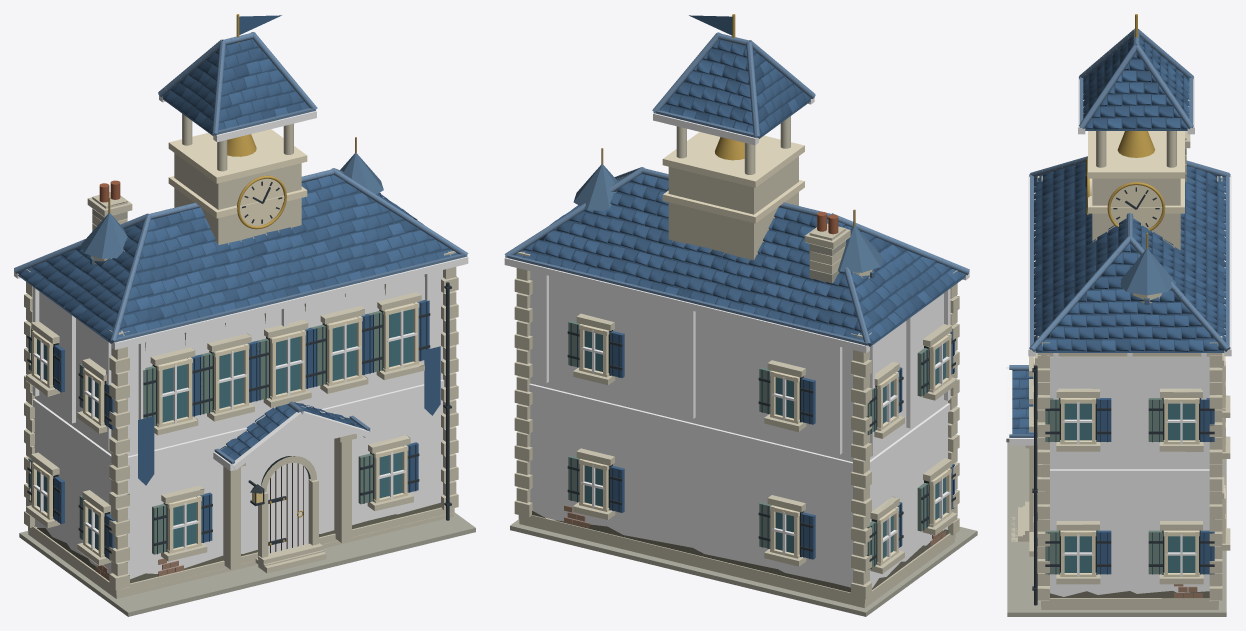
File: guild.glb
The picture shows the model from 3 angles, left to right: view 1: azimuth 30°, elevation 25°; view 2: azimuth 150°, elevation 25°; view 3: azimuth 270°, elevation 25°; orthographic projection. The views are drawn at different scales.
Parts seen in each view (by area): view 1: SourceMesh_00005, SourceMesh_00108, SourceMesh_00000, SourceMesh_00206, SourceMesh_00103, SourceMesh_00085, SourceMesh_00088, SourceMesh_00267, SourceMesh_00104, SourceMesh_00006, SourceMesh_00084, SourceMesh_00259 (+29 smaller); view 2: SourceMesh_00005, SourceMesh_00108, SourceMesh_00085, SourceMesh_00206, SourceMesh_00100, SourceMesh_00000, SourceMesh_00088, SourceMesh_00084, SourceMesh_00006, SourceMesh_00101, SourceMesh_00001, SourceMesh_00102 (+12 smaller); view 3: SourceMesh_00108, SourceMesh_00005, SourceMesh_00206, SourceMesh_00000, SourceMesh_00088, SourceMesh_00085, SourceMesh_00103, SourceMesh_00107, SourceMesh_00100, Blender civic lantern roof.001, SourceMesh_00084, SourceMesh_00006 (+41 smaller).
Boxes of the visible parts, <box> form: SourceMesh_00005: <box>32,270,445,579</box>; SourceMesh_00108: <box>17,175,458,341</box>; SourceMesh_00000: <box>19,512,475,616</box>; SourceMesh_00206: <box>162,39,309,133</box>; SourceMesh_00103: <box>120,176,450,332</box>; SourceMesh_00085: <box>174,153,301,244</box>; SourceMesh_00088: <box>168,129,307,183</box>; SourceMesh_00267: <box>266,463,308,553</box>; SourceMesh_00104: <box>111,256,468,349</box>; SourceMesh_00006: <box>28,507,454,594</box>; SourceMesh_00084: <box>29,379,444,464</box>; SourceMesh_00259: <box>219,402,364,460</box>; SourceMesh_00005: <box>523,271,951,588</box>; SourceMesh_00108: <box>514,174,965,343</box>; SourceMesh_00085: <box>668,156,798,261</box>; SourceMesh_00206: <box>660,39,811,136</box>; SourceMesh_00100: <box>522,175,861,338</box>; SourceMesh_00000: <box>510,519,977,616</box>; SourceMesh_00088: <box>662,132,804,187</box>; SourceMesh_00084: <box>528,383,950,472</box>; SourceMesh_00006: <box>518,515,955,603</box>; SourceMesh_00101: <box>504,257,869,352</box>; SourceMesh_00001: <box>519,519,954,608</box>; SourceMesh_00102: <box>505,255,867,345</box>; SourceMesh_00108: <box>1034,161,1225,351</box>; SourceMesh_00005: <box>1044,356,1215,596</box>; SourceMesh_00206: <box>1083,37,1189,129</box>; SourceMesh_00000: <box>1007,442,1226,616</box>; SourceMesh_00088: <box>1088,131,1184,178</box>; SourceMesh_00085: <box>1092,178,1180,249</box>; SourceMesh_00103: <box>1035,163,1126,334</box>; SourceMesh_00107: <box>1035,243,1224,352</box>; SourceMesh_00100: <box>1133,170,1224,334</box>; Blender civic lantern roof.001: <box>1120,249,1175,295</box>; SourceMesh_00084: <box>1041,469,1218,477</box>; SourceMesh_00006: <box>1041,598,1218,606</box>.
Size of the model in its own units: 9.67 by 13.25 by 5.23.
